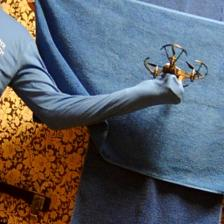drone: (143, 44, 210, 89)
